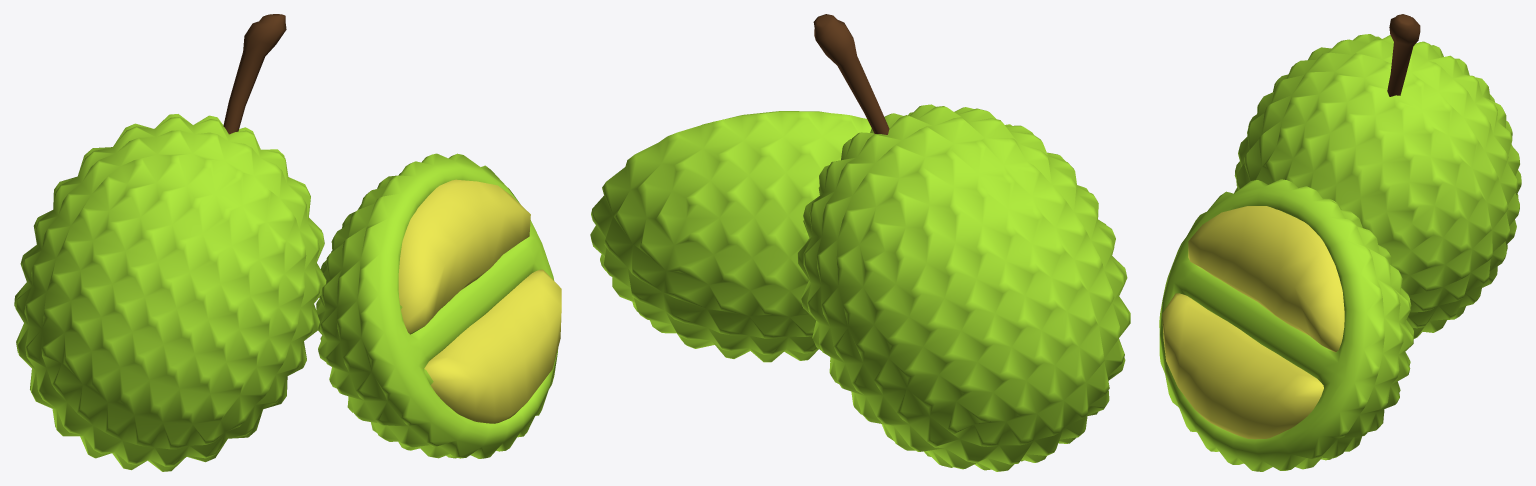
3 renders of one model, left to right at view 1: azimuth 30°, elevation 25°; view 2: azimuth 150°, elevation 25°; view 3: azimuth 270°, elevation 25°, orthographic. The views are drawn at different scales.
Visible parts, largest first — view 1: durian; view 2: durian; view 3: durian.
Part boxes in pixels (x1,y1,x2,y2): durian: [14, 14, 561, 471]; durian: [590, 14, 1130, 471]; durian: [1159, 14, 1521, 471].
Bounding box in the file's own units: 672 × 511 × 441.
